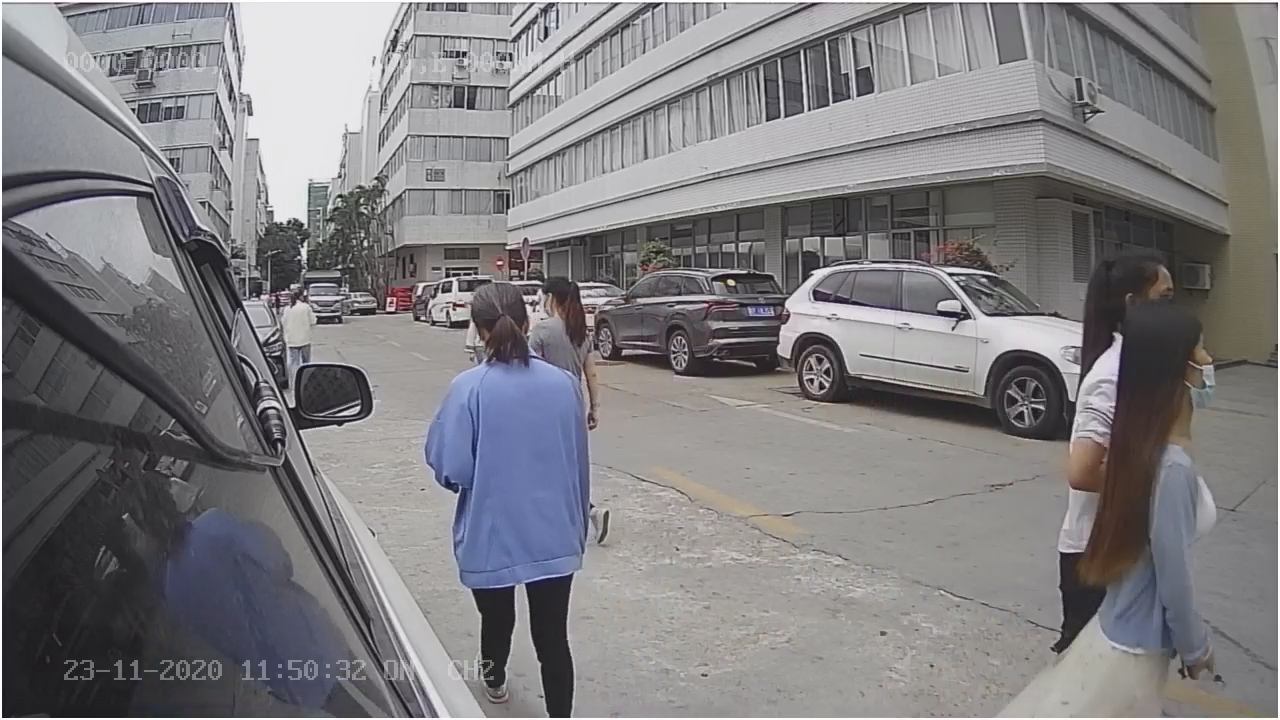person: (418, 274, 614, 538)
